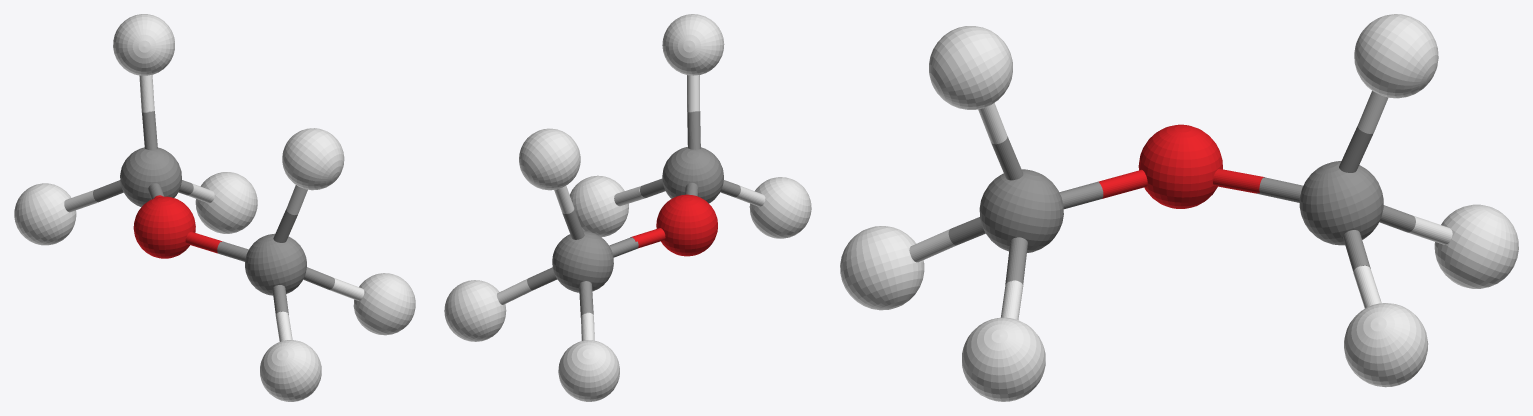
File: methoxymethane.fbx
3 renders of one model, left to right at view 1: azimuth 30°, elevation 25°; view 2: azimuth 150°, elevation 25°; view 3: azimuth 270°, elevation 25°, orthographic. The views are drawn at different scales.
Visible parts, largest first — view 1: Sphere.015, Sphere.013, Sphere.007, Sphere.003, Sphere.002, Sphere.004, Sphere.006, Sphere.001, Sphere.000, Cylinder.003, Cylinder.007, Cylinder.004 (+9 smaller); view 2: Sphere.004, Sphere.007, Sphere.015, Sphere.006, Sphere.003, Sphere.013, Sphere.000, Sphere.002, Sphere.001, Cylinder.028, Cylinder.029, Cylinder.012 (+10 smaller); view 3: Sphere.007, Sphere.002, Sphere.006, Sphere.015, Sphere.013, Sphere.003, Sphere.004, Sphere.000, Sphere.001, Cylinder.009, Cylinder.004, Cylinder.022 (+13 smaller).
Boxes of the visible parts, x1,y1,x2,y2 form: Sphere.015: (282,128,344,190); Sphere.013: (260,340,321,401); Sphere.007: (113,14,174,75); Sphere.003: (133,196,195,258); Sphere.002: (353,273,415,335); Sphere.004: (14,183,76,245); Sphere.006: (195,172,257,233); Sphere.001: (245,233,306,295); Sphere.000: (120,147,181,207); Cylinder.003: (142,111,157,149); Cylinder.007: (139,75,154,112); Cylinder.004: (185,231,221,253); Sphere.004: (558,340,619,401); Sphere.007: (519,128,580,190); Sphere.015: (662,14,724,75); Sphere.006: (444,280,506,341); Sphere.003: (656,194,717,256); Sphere.013: (749,177,811,238); Sphere.000: (552,231,613,292); Sphere.002: (570,175,628,237); Sphere.001: (662,147,723,203); Cylinder.028: (687,111,700,149); Cylinder.029: (687,75,699,112); Cylinder.012: (497,279,532,304); Sphere.007: (1354,14,1438,98); Sphere.002: (962,317,1045,401); Sphere.006: (1344,303,1428,387); Sphere.015: (929,26,1012,109); Sphere.013: (840,226,924,310); Sphere.003: (1138,124,1222,208); Sphere.004: (1434,204,1518,288); Sphere.000: (1299,161,1383,245); Sphere.001: (979,169,1063,252); Cylinder.009: (1213,168,1264,193); Cylinder.004: (1098,169,1147,198); Cylinder.022: (1005,237,1027,284).
Size of the model in its own units: 61.66 by 62.77 by 122.
